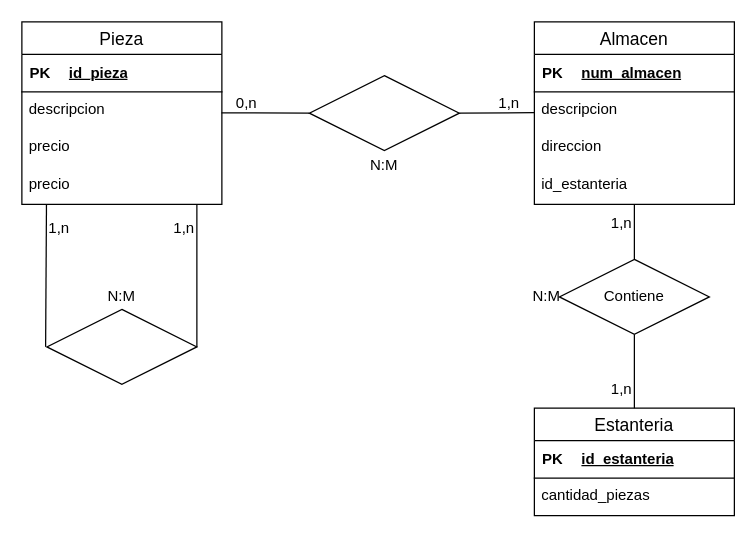
The diagram is 756 pixels wide and 541 high, and some of its shapes have lost their labels. Each missing label, with the centre of its shape:
compuesto: point (121, 346)
Guarda: point (383, 112)
